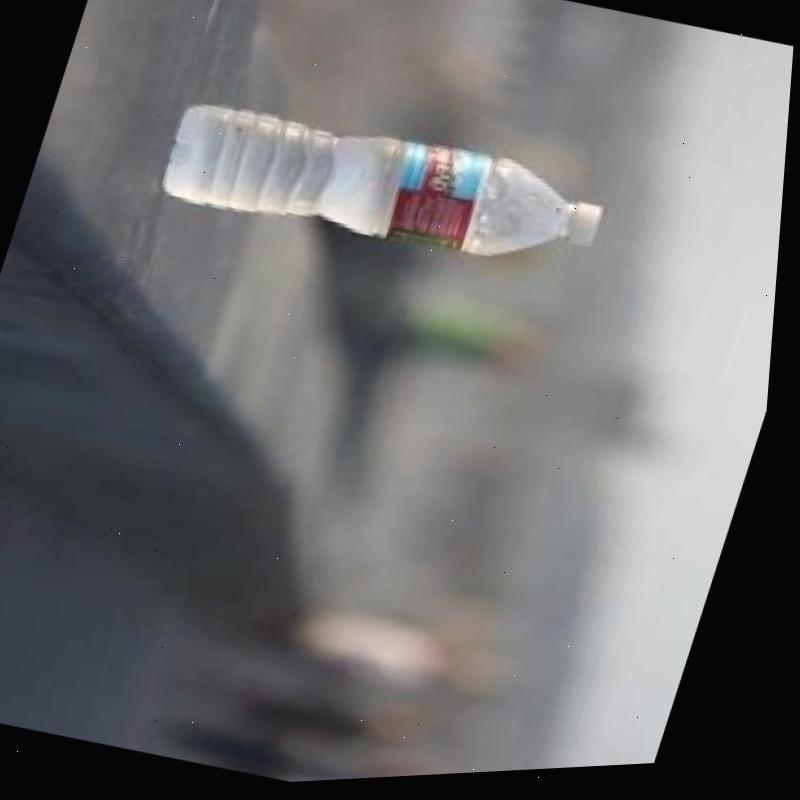botella: (146, 69, 630, 311)
